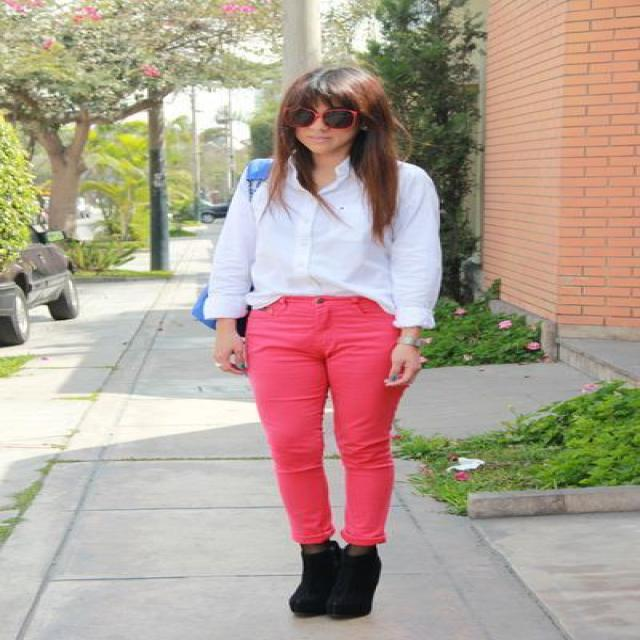pants: (230, 296, 420, 547)
shirt: (203, 158, 442, 326)
shoe: (290, 536, 379, 620)
sunglass: (288, 90, 344, 128)
